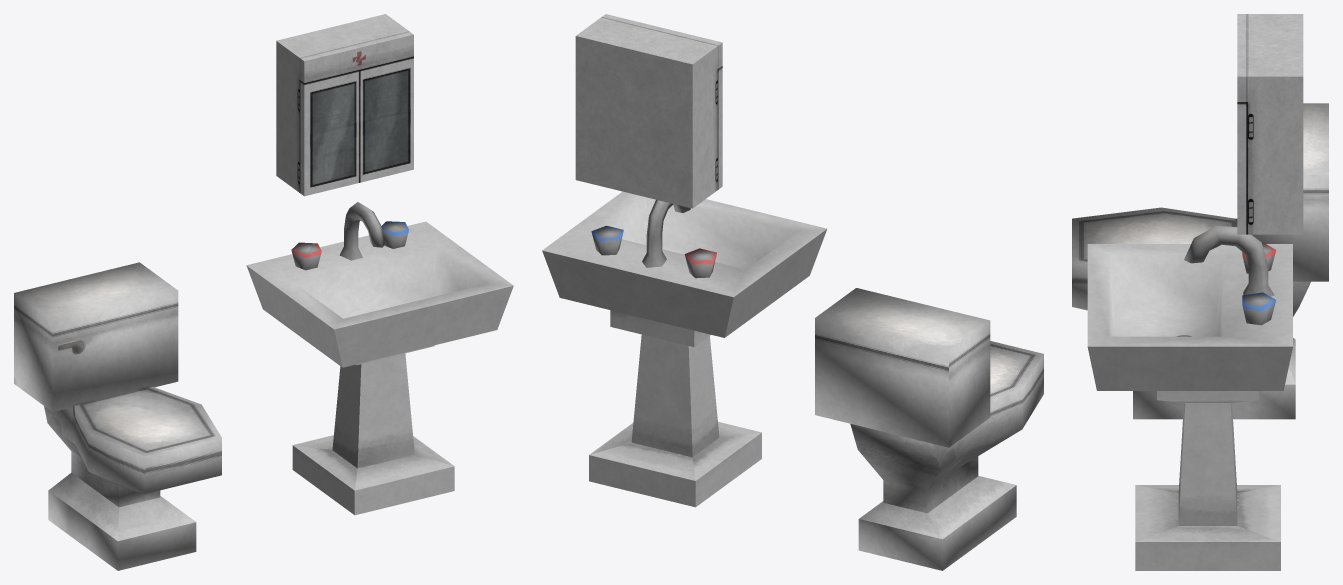
The model's file is Bathroom.fbx.
The picture shows the model from 3 angles, left to right: view 1: azimuth 30°, elevation 25°; view 2: azimuth 150°, elevation 25°; view 3: azimuth 270°, elevation 25°; orthographic projection. The views are drawn at different scales.
Visible parts, largest first — view 1: Toilet, Sink, Medicine Cabinet; view 2: Sink, Toilet, Medicine Cabinet; view 3: Sink, Medicine Cabinet, Toilet.
Part boxes in pixels (box(x1,y1,x2,y2)): Toilet: box(14, 262, 221, 570); Sink: box(246, 202, 513, 515); Medicine Cabinet: box(276, 14, 413, 196); Sink: box(542, 191, 827, 507); Toilet: box(815, 288, 1043, 570); Medicine Cabinet: box(575, 14, 722, 208); Sink: box(1087, 225, 1292, 570); Medicine Cabinet: box(1237, 14, 1303, 234); Toilet: box(1072, 103, 1328, 419).
Bounding box in the file's own units: 303 × 145 × 309.
3 materials, 3 textured.
